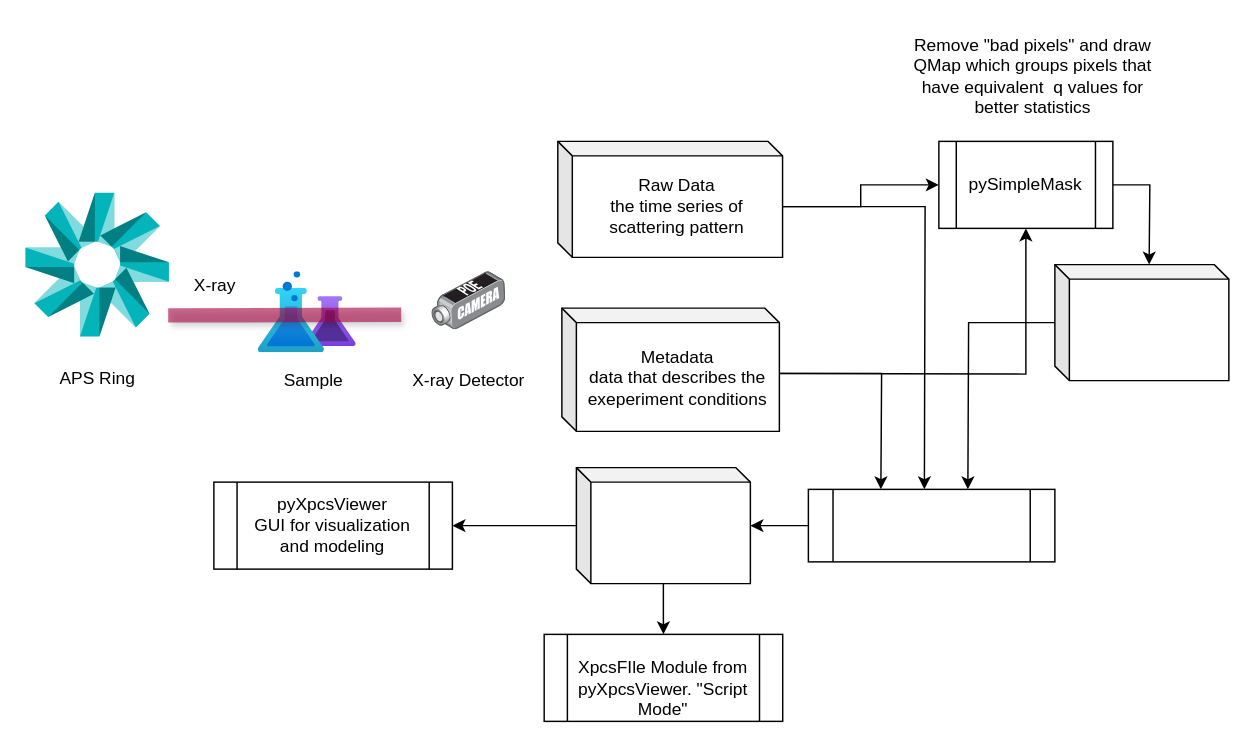
This 1254x747 diagram has some shape labels left out. Each missing label, with the centre of its shape:
"Boost-corr perform correlation analysis" goes at (x=931, y=525).
"QMap File" goes at (x=1141, y=322).
"Result File" goes at (x=662, y=525).
